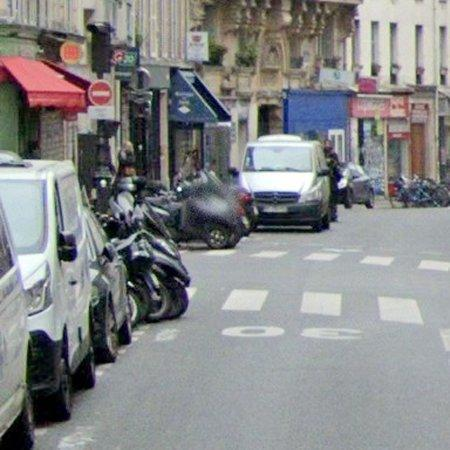crosswalks: (187, 288, 426, 328)
